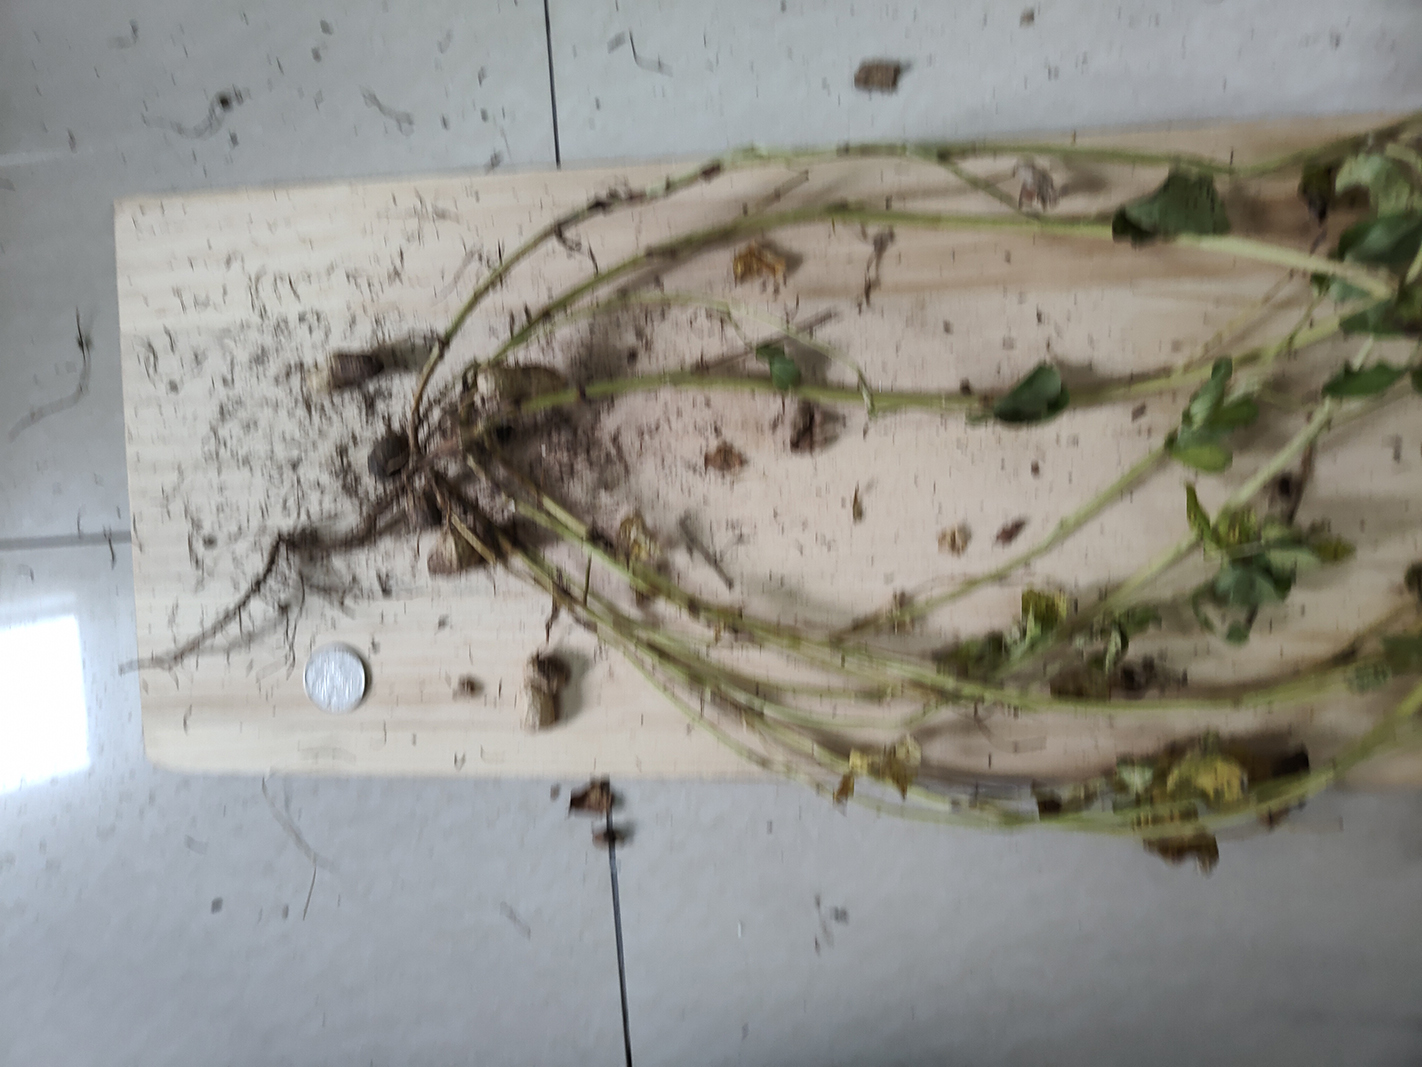h: (519, 653, 569, 731), (478, 363, 569, 398)
l: (304, 353, 384, 386), (428, 519, 475, 574), (368, 429, 406, 481), (405, 489, 430, 531)
